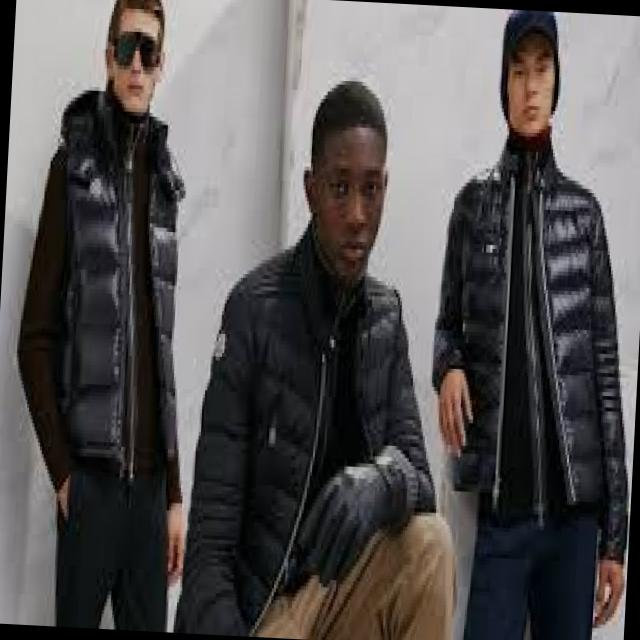Jacket: (181, 253, 444, 640), (0, 105, 207, 535), (420, 150, 640, 527)
